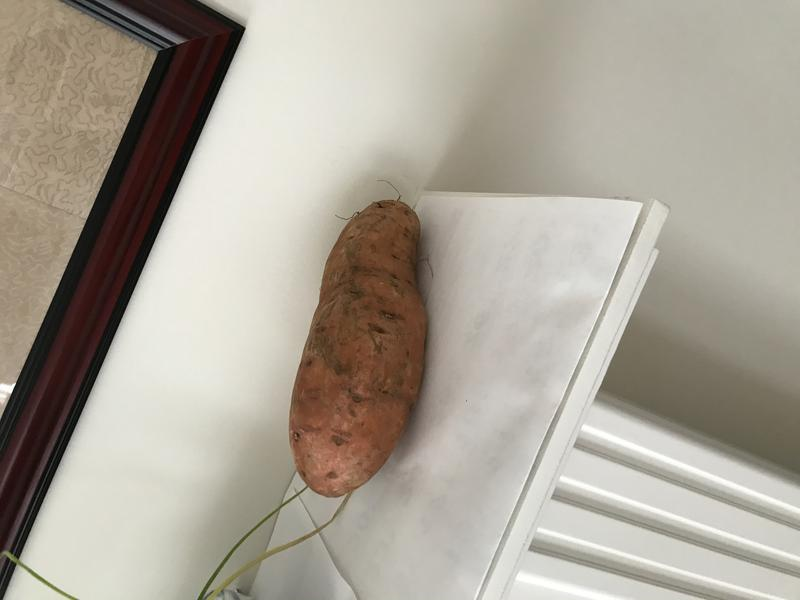sweet_potato: (284, 183, 434, 516)
